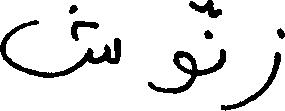X: (0, 0, 119, 82), (228, 23, 284, 110), (148, 0, 196, 98), (217, 4, 226, 110)
